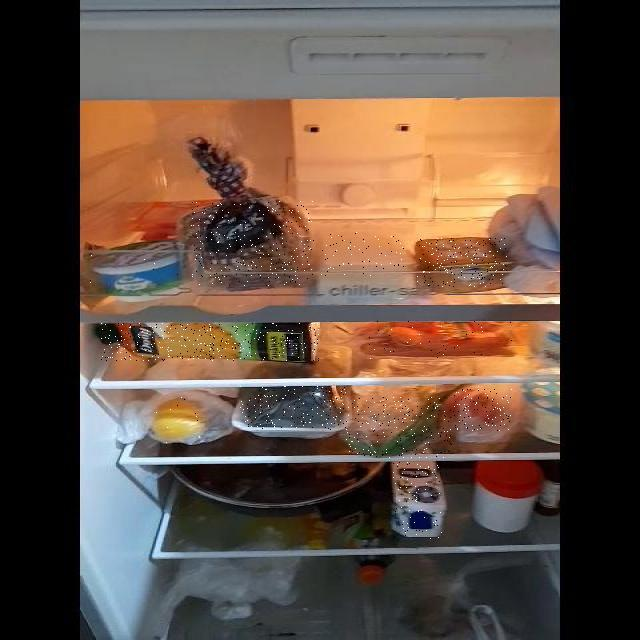bread: (191, 201, 314, 286)
broccoli: (239, 386, 347, 430)
butter: (418, 238, 508, 287)
carrot: (363, 321, 514, 359)
cheese: (321, 231, 406, 276)
green chilies: (346, 397, 452, 458)
juice: (102, 323, 320, 361)
lemon: (150, 397, 210, 443)
milk: (392, 461, 442, 539)
tomato: (453, 389, 513, 431)
yoghurt: (89, 244, 179, 293)
